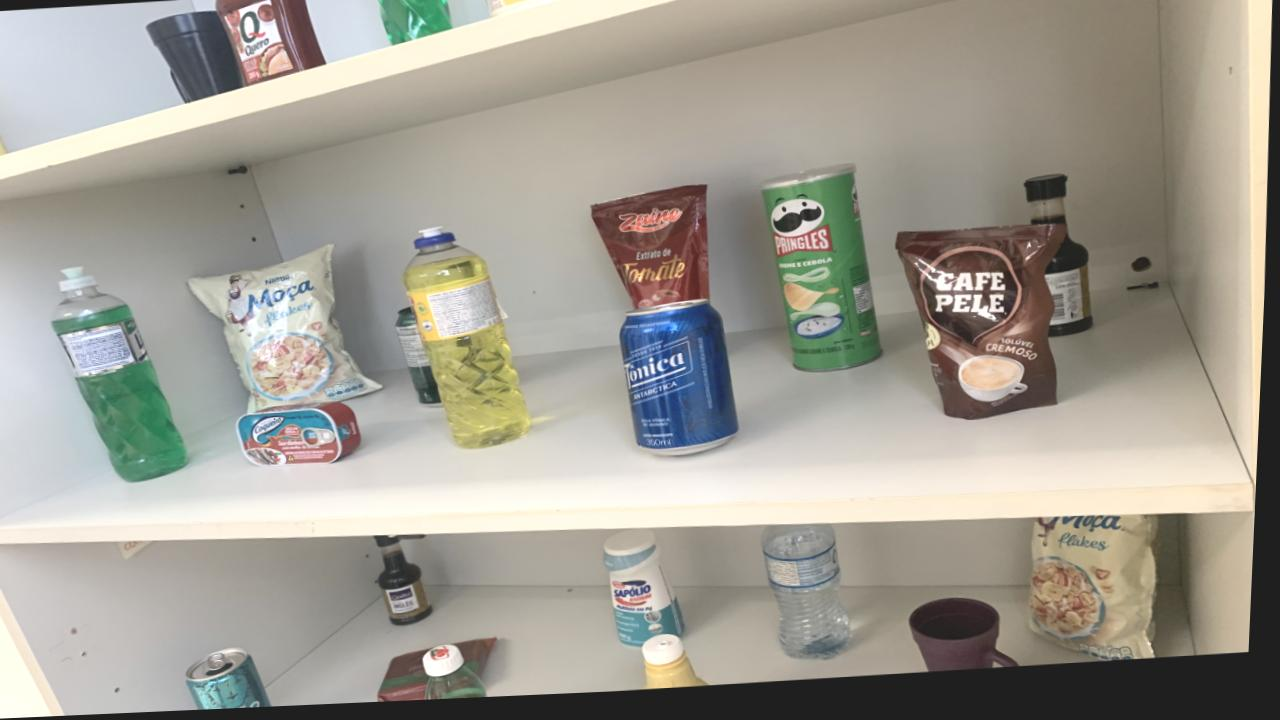Cleaner-Cleanup_Items: (608, 535, 690, 652)
Coffee-Pantry_Items: (899, 234, 1069, 428)
Detergent-Cleanup_Items: (55, 269, 191, 483), (406, 237, 536, 453), (376, 0, 453, 49)
English_Sauce-Pantry_Items: (381, 539, 438, 630), (1048, 243, 1097, 347), (1027, 184, 1070, 235)
Flakes-Snacks: (191, 248, 384, 415), (1035, 525, 1164, 671)
Guarana-Drinks: (429, 648, 494, 704)
Guarana_Can-Drinks: (398, 311, 444, 410)
Guava-Snacks: (384, 655, 436, 706), (462, 642, 502, 680)
Ketchup-Pantry_Items: (216, 0, 327, 88)
Mayonnaise-Pantry_Items: (486, 0, 570, 21)
Mustard-Pantry_Items: (649, 640, 714, 696)
Pringles-Snacks: (765, 172, 885, 380)
Tea-Drinks: (192, 650, 279, 712)
Tomato_Sauce-Pantry_Items: (594, 191, 713, 315)
Tonic-Drinks: (622, 309, 743, 462)
Tuna_Can-Pantry_Items: (241, 405, 366, 469)
Water_Bottle-Drinks: (766, 531, 857, 668)
